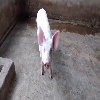heo: (34, 6, 60, 81)
